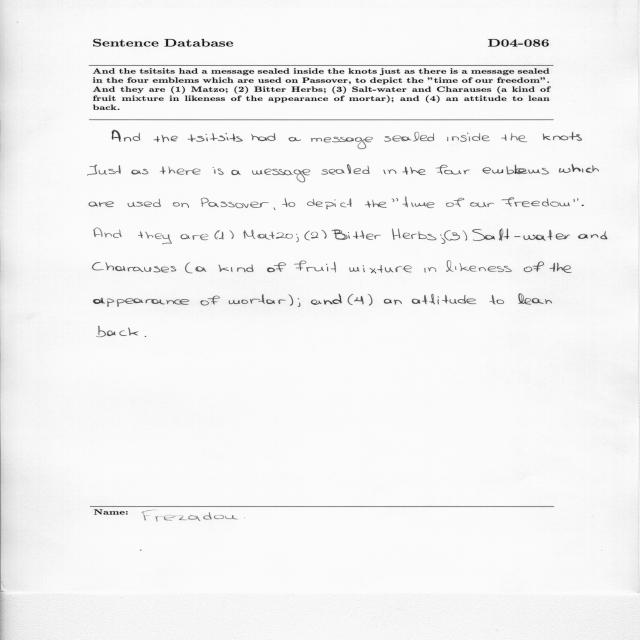word: (499, 228, 570, 241), (94, 298, 190, 307), (93, 262, 177, 272), (446, 260, 512, 272), (252, 169, 310, 182), (311, 137, 373, 149), (501, 197, 570, 207), (201, 198, 269, 208), (482, 165, 549, 175), (412, 294, 476, 304), (229, 294, 286, 304), (331, 229, 381, 240), (321, 164, 370, 175), (392, 229, 436, 241), (294, 261, 336, 273), (349, 265, 412, 273), (385, 132, 435, 142), (243, 230, 293, 240), (188, 133, 243, 142), (307, 199, 352, 210), (97, 326, 139, 337), (138, 232, 172, 245), (447, 133, 490, 142), (518, 294, 552, 305), (88, 165, 121, 176), (559, 164, 599, 173), (403, 197, 435, 208), (543, 132, 582, 141), (311, 294, 342, 305), (436, 165, 470, 175), (112, 130, 140, 142), (160, 167, 201, 175), (94, 228, 122, 238), (219, 265, 254, 273), (472, 229, 495, 241), (128, 199, 161, 207), (442, 230, 460, 244), (501, 133, 528, 142), (578, 231, 608, 239), (524, 261, 544, 272), (550, 263, 572, 273), (251, 133, 276, 141), (365, 199, 387, 208), (154, 135, 178, 143), (402, 167, 426, 175), (267, 262, 286, 272), (201, 296, 220, 306), (446, 198, 465, 207), (181, 234, 209, 240), (348, 294, 363, 305), (89, 202, 114, 208), (490, 295, 504, 305), (470, 202, 494, 207), (283, 198, 296, 207), (132, 169, 149, 175), (173, 202, 189, 208), (213, 167, 224, 175), (185, 263, 193, 274), (424, 267, 436, 273), (196, 266, 207, 272), (384, 170, 397, 175), (368, 294, 373, 306), (289, 295, 294, 306), (214, 231, 220, 240), (304, 231, 310, 240), (231, 170, 241, 175), (463, 231, 468, 241), (311, 232, 318, 239), (289, 137, 301, 141), (321, 230, 327, 238), (229, 230, 234, 239), (219, 232, 224, 240), (384, 299, 392, 304), (394, 300, 402, 305), (298, 298, 301, 307), (392, 198, 398, 202), (296, 234, 299, 242), (574, 198, 579, 202), (274, 208, 276, 210), (440, 234, 442, 236), (582, 205, 584, 206), (145, 336, 146, 337)
